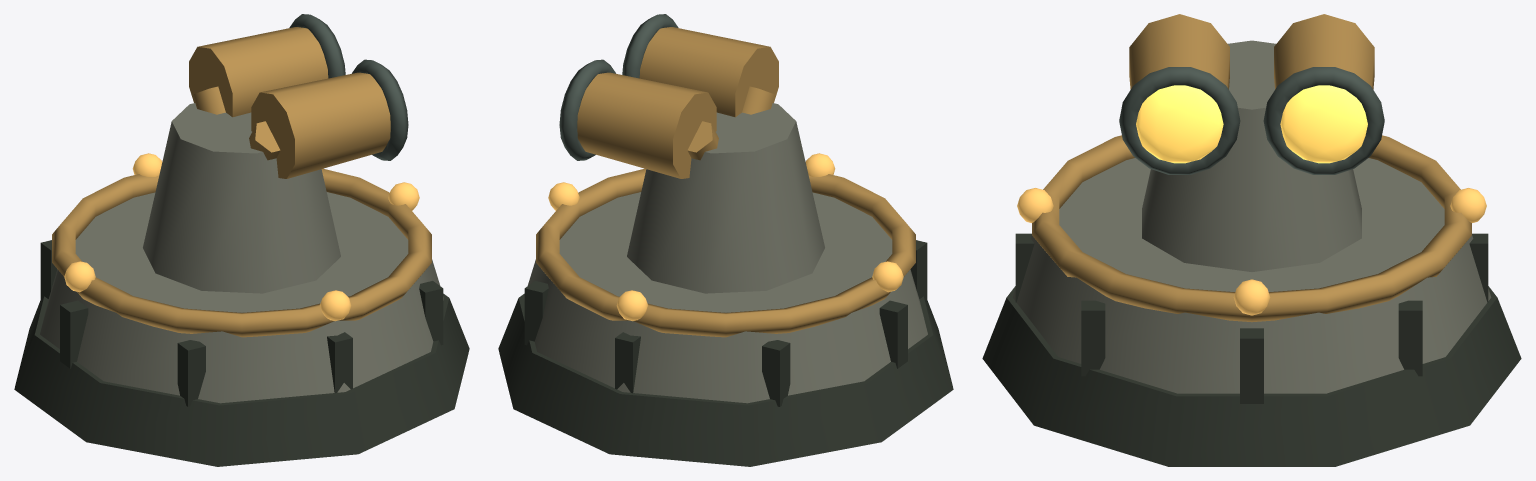
Rendered from tower_laser_laserDouble.glb.
The picture shows the model from 3 angles, left to right: view 1: azimuth 30°, elevation 25°; view 2: azimuth 150°, elevation 25°; view 3: azimuth 270°, elevation 25°; orthographic projection. The views are drawn at different scales.
Visible parts, largest first — view 1: stone_1, foot_0, column_15, rim_2, lens_housing_17, lens_housing_21, focus_ring_18, mortar_6, mortar_7, focus_ring_22, mortar_5, mortar_4 (+7 smaller); view 2: stone_1, foot_0, column_15, rim_2, lens_housing_21, lens_housing_17, focus_ring_22, mortar_8, mortar_7, focus_ring_18, mortar_9, mortar_10 (+7 smaller); view 3: stone_1, foot_0, column_15, rim_2, lens_glass_19, lens_glass_23, focus_ring_18, focus_ring_22, lens_housing_17, lens_housing_21, mortar_3, mortar_4 (+6 smaller).
Part boxes in pixels (<box>): stone_1: <box>40,192,443,403</box>; foot_0: <box>14,293,469,466</box>; column_15: <box>143,103,340,293</box>; rim_2: <box>52,168,431,337</box>; lens_housing_17: <box>251,72,390,178</box>; lens_housing_21: <box>189,27,328,117</box>; focus_ring_18: <box>352,59,408,160</box>; mortar_6: <box>177,340,205,406</box>; mortar_7: <box>60,300,88,368</box>; focus_ring_22: <box>289,14,345,78</box>; mortar_5: <box>327,332,352,393</box>; mortar_4: <box>419,281,443,345</box>; stone_1: <box>524,192,927,403</box>; foot_0: <box>498,293,953,466</box>; column_15: <box>627,103,824,293</box>; rim_2: <box>536,168,915,337</box>; lens_housing_21: <box>577,72,716,178</box>; lens_housing_17: <box>639,27,778,117</box>; focus_ring_22: <box>559,59,615,160</box>; mortar_8: <box>762,340,790,406</box>; mortar_7: <box>879,300,907,368</box>; focus_ring_18: <box>622,14,678,78</box>; mortar_9: <box>615,332,640,393</box>; mortar_10: <box>524,281,548,345</box>; stone_1: <box>1012,158,1491,393</box>; foot_0: <box>982,286,1521,466</box>; column_15: <box>1142,40,1361,271</box>; rim_2: <box>1032,135,1471,322</box>; lens_glass_19: <box>1136,85,1223,163</box>; lens_glass_23: <box>1280,85,1367,163</box>; focus_ring_18: <box>1119,67,1240,174</box>; focus_ring_22: <box>1263,67,1384,174</box>; lens_housing_17: <box>1129,14,1229,89</box>; lens_housing_21: <box>1274,14,1374,89</box>; mortar_3: <box>1240,328,1263,403</box>; mortar_4: <box>1081,300,1105,376</box>.
Size of the model in its own units: 0.5326 by 0.402 by 0.56.
